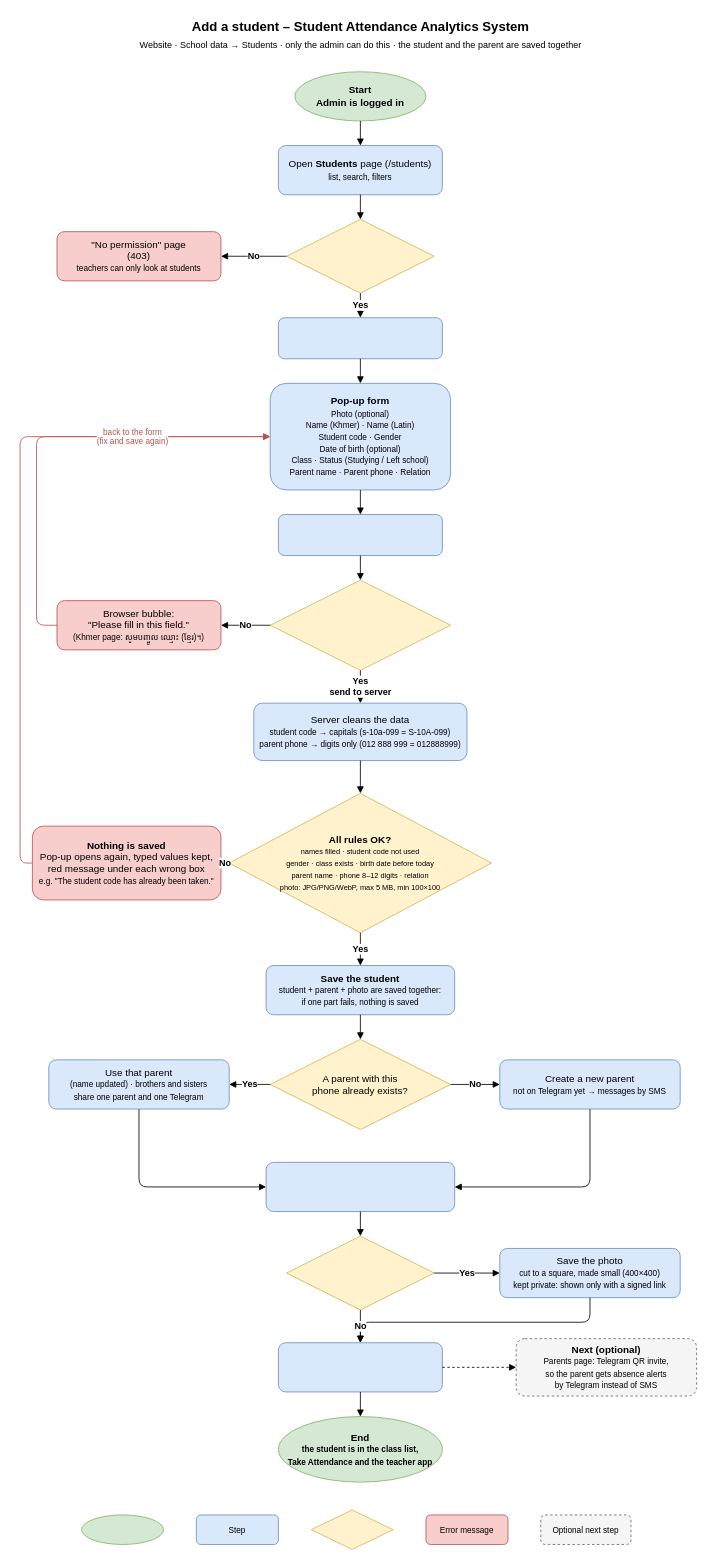
Image size: 711x1564. Some labels were removed from this diagram. Each missing label, with the box of its shape:
Admin fills in and clicks Save student: (278, 514, 442, 556)
Click + Add student: (278, 317, 442, 359)
Decision: (310, 1509, 393, 1549)
Green message "Student saved." the new student is in the list: (278, 1342, 442, 1392)
Link parent ↔ student with the relation (Father / Mother / Guardian): (265, 1162, 455, 1212)
Photo chosen?: (286, 1235, 434, 1310)
Required boxes filled? (checked by the browser): (269, 579, 451, 670)
Start / End: (81, 1514, 164, 1544)
User is admin?: (286, 219, 434, 293)
